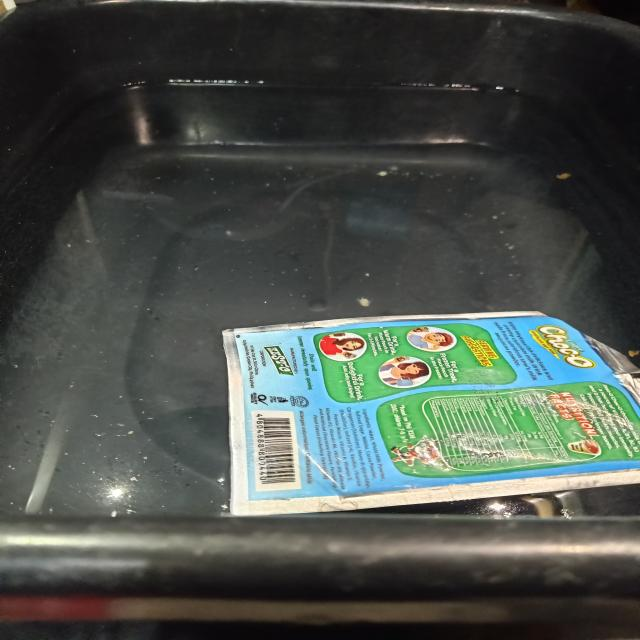Plastic Pouch: (223, 312, 640, 515)
